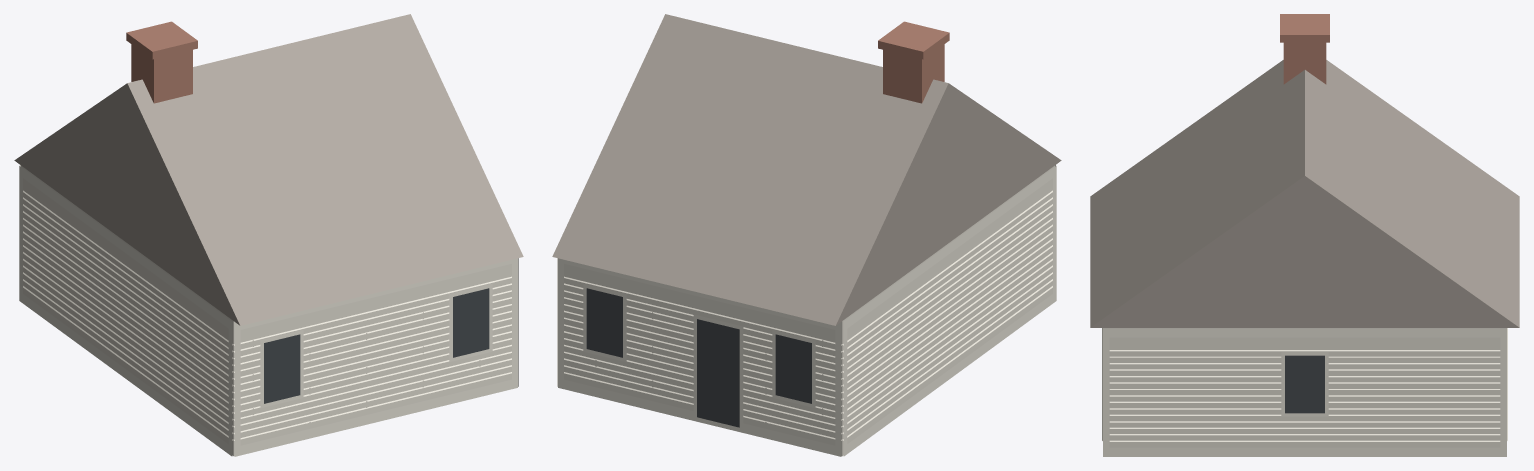
The model's file is recon_1835_north_d4_039__inferred_1835.glb.
3 renders of one model, left to right at view 1: azimuth 30°, elevation 25°; view 2: azimuth 150°, elevation 25°; view 3: azimuth 270°, elevation 25°, orthographic. The views are drawn at different scales.
Visible parts, largest first — view 1: recon_1835_north_d4_039__inferred_1835; view 2: recon_1835_north_d4_039__inferred_1835; view 3: recon_1835_north_d4_039__inferred_1835.
Boxes of the visible parts, bbox=[...] form: recon_1835_north_d4_039__inferred_1835: bbox=[14, 14, 523, 456]; recon_1835_north_d4_039__inferred_1835: bbox=[552, 14, 1061, 456]; recon_1835_north_d4_039__inferred_1835: bbox=[1090, 14, 1519, 456].
Bounding box in the file's own units: 6.18 × 6.85 × 8.43.
